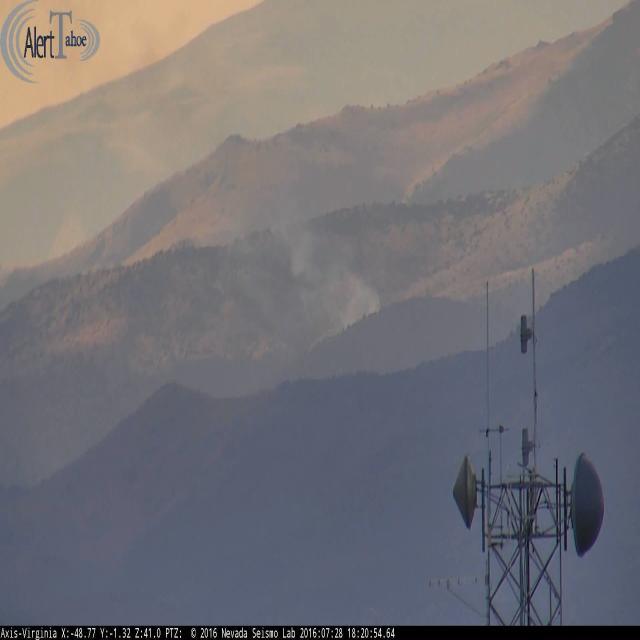smoke: (290, 231, 385, 333)
